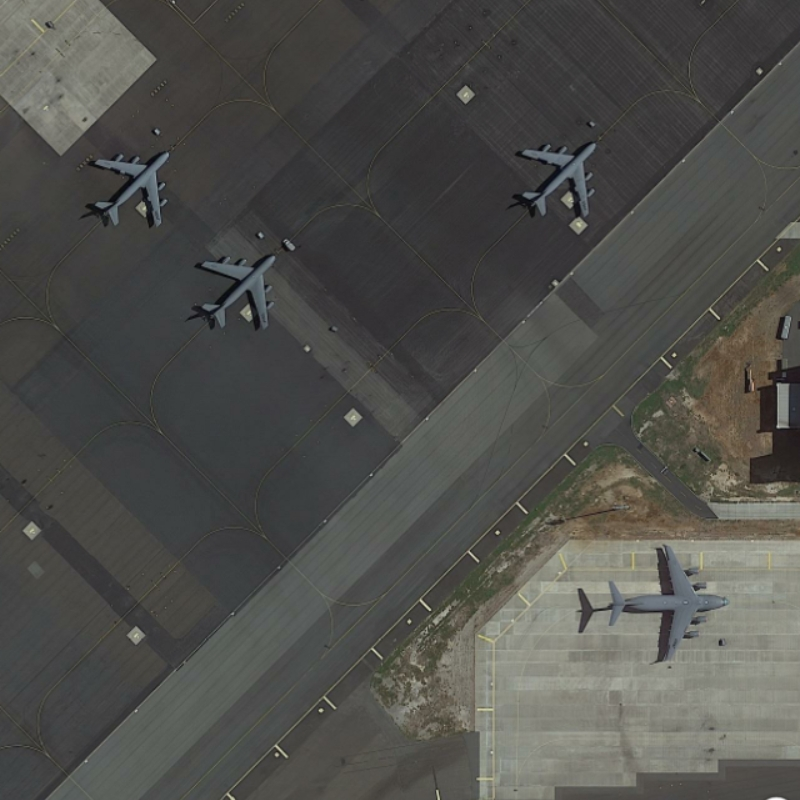A14: (515, 135, 601, 220), (85, 149, 172, 233), (194, 251, 280, 333)
A3: (605, 541, 733, 667)
